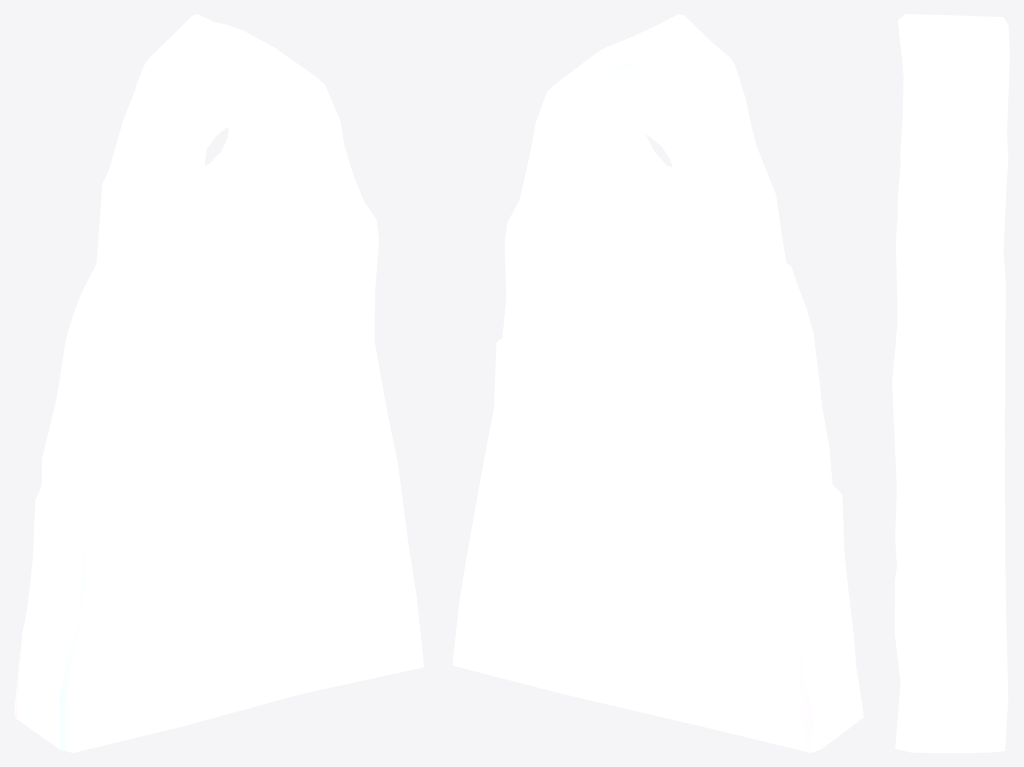
3 renders of one model, left to right at view 1: azimuth 30°, elevation 25°; view 2: azimuth 150°, elevation 25°; view 3: azimuth 270°, elevation 25°, orthographic.
Visible parts, largest first — view 1: SM_LongGrass_03_LOD0; view 2: SM_LongGrass_03_LOD0; view 3: SM_LongGrass_03_LOD0.
Part boxes in pixels (box(x1,y1,x2,y2)): SM_LongGrass_03_LOD0: box(14, 14, 423, 752); SM_LongGrass_03_LOD0: box(452, 14, 863, 752); SM_LongGrass_03_LOD0: box(892, 14, 1009, 752).
Bounding box in the file's own units: 3.84 × 6.58 × 1.08.
